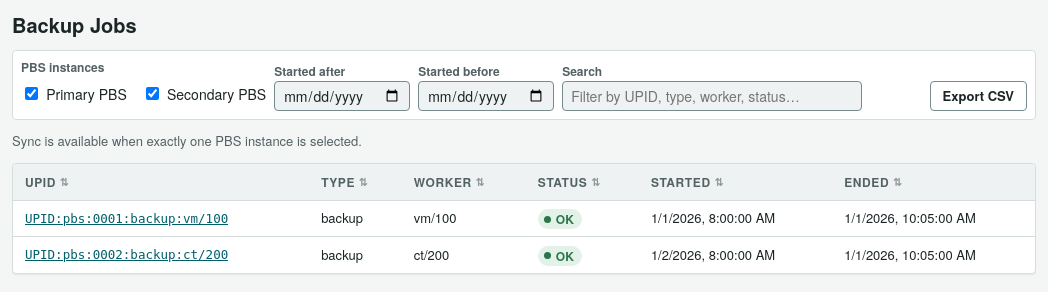
Test: TasksPage › shows Sync once the selection narrows to exactly one instance
Expected: the checkbox labelled "Primary PBS" is checked, [25, 87, 38, 100]
Step 1. Click the checkbox labelled "Secondary PBS" → (152, 94), box [146, 87, 159, 100]
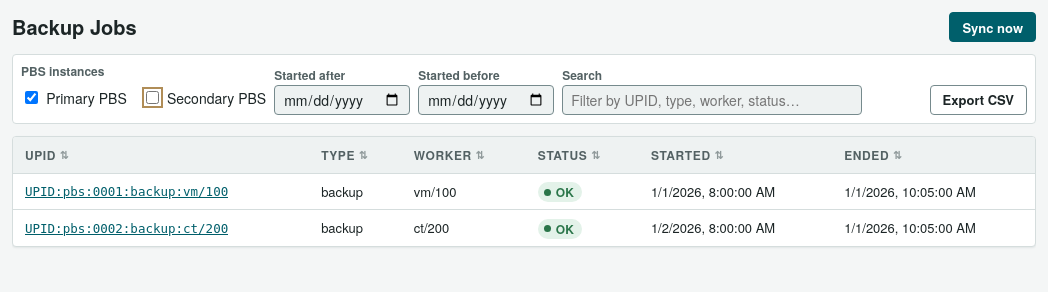
Expected: the button "Sync now" is shown, [949, 12, 1036, 42]
